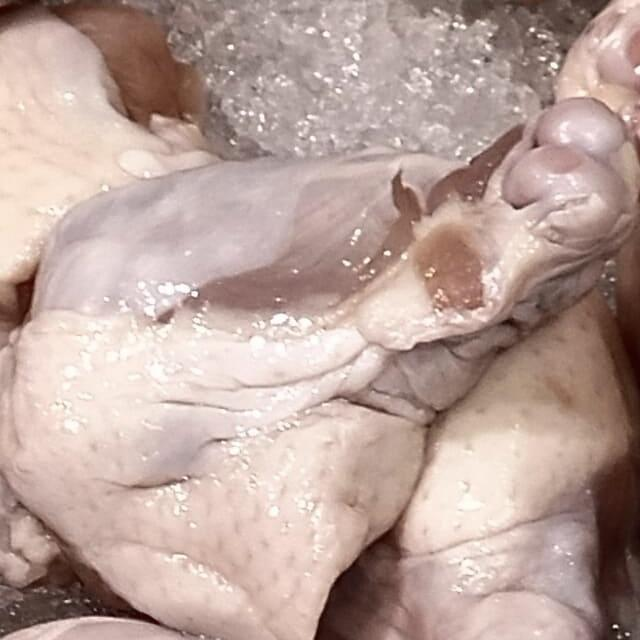chicken: (0, 0, 259, 375)
